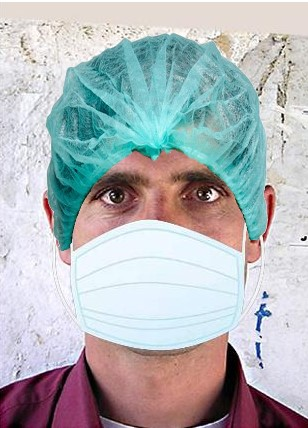with_mask_and_cap: (46, 45, 266, 353)
